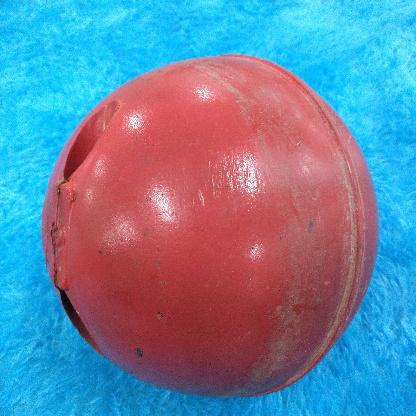red_buoy: (40, 50, 383, 404)
